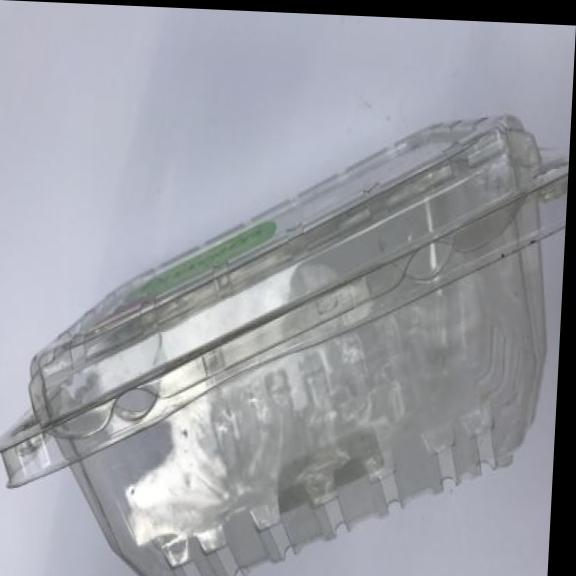Plastik: (0, 83, 572, 576)
